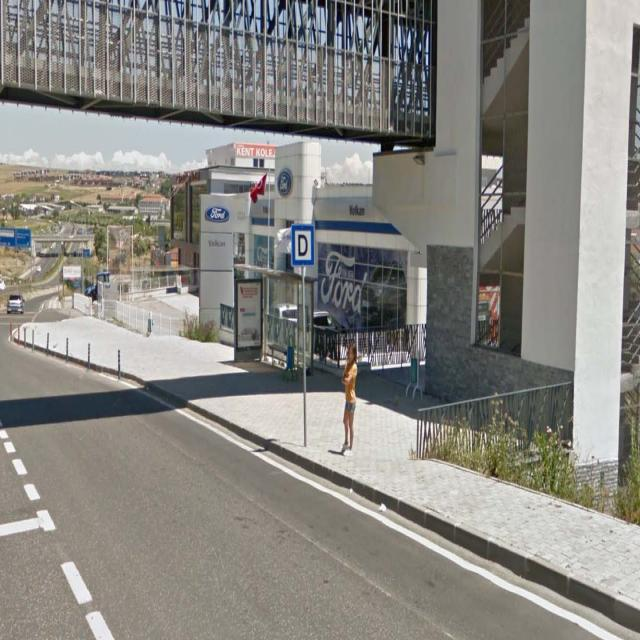durak: (292, 224, 315, 266)
